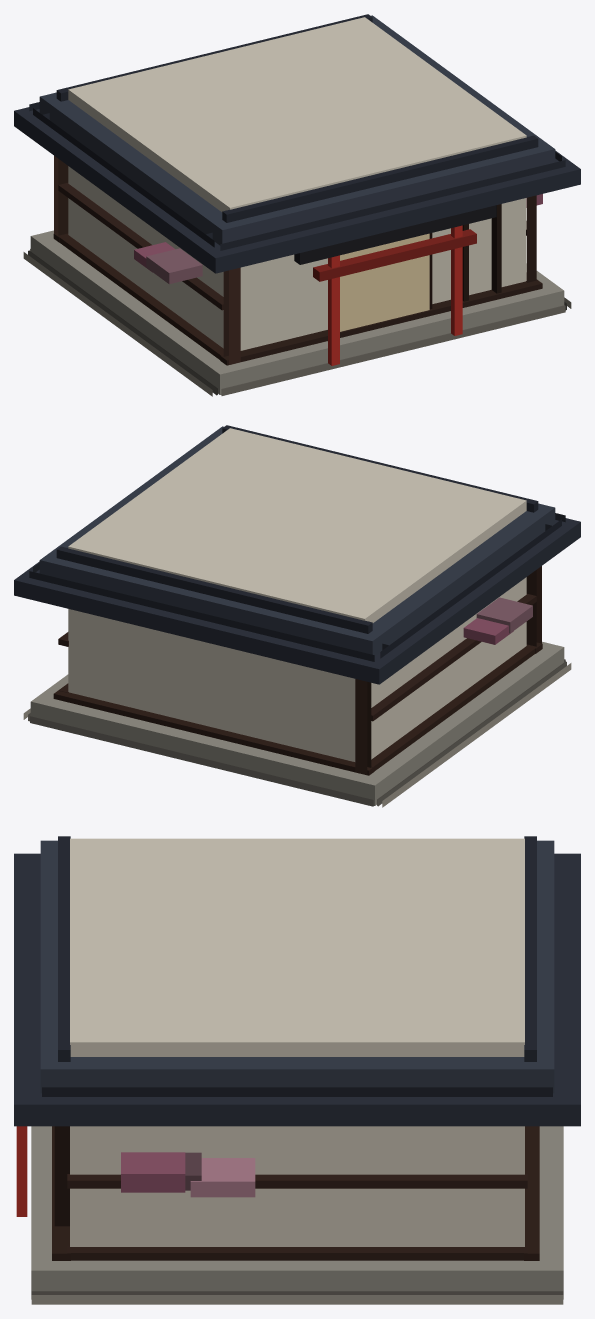
The model's file is BlackCatIdolSil.fbx.
The picture shows the model from 3 angles, top to bottom: view 1: azimuth 30°, elevation 25°; view 2: azimuth 150°, elevation 25°; view 3: azimuth 270°, elevation 25°; orthographic projection. The views are drawn at different scales.
Visible parts, largest first — view 1: BC_S_All; view 2: BC_S_All; view 3: BC_S_All.
Boxes of the visible parts, x1=… form: BC_S_All: x1=14, y1=14, x2=580, y2=396; BC_S_All: x1=14, y1=425, x2=580, y2=807; BC_S_All: x1=14, y1=836, x2=580, y2=1304.
Size of the model in its own units: 44.64 by 20 by 42.64.
